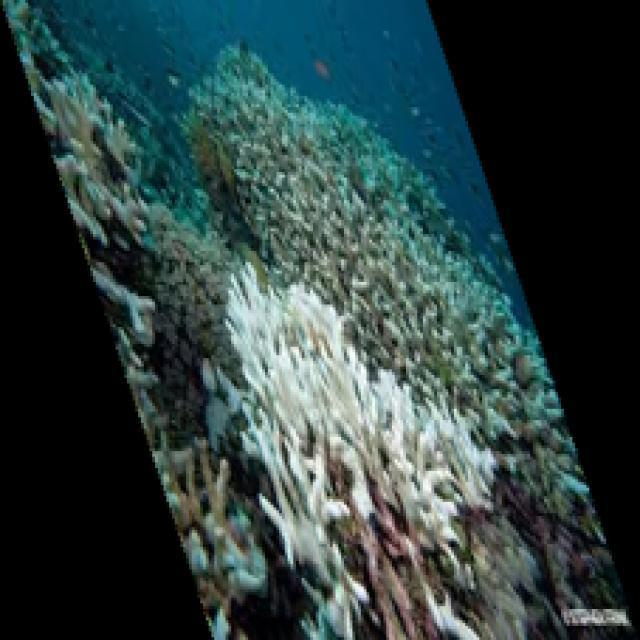Bleached: (185, 47, 590, 528), (220, 264, 501, 640), (1, 1, 145, 429), (123, 432, 273, 640)
